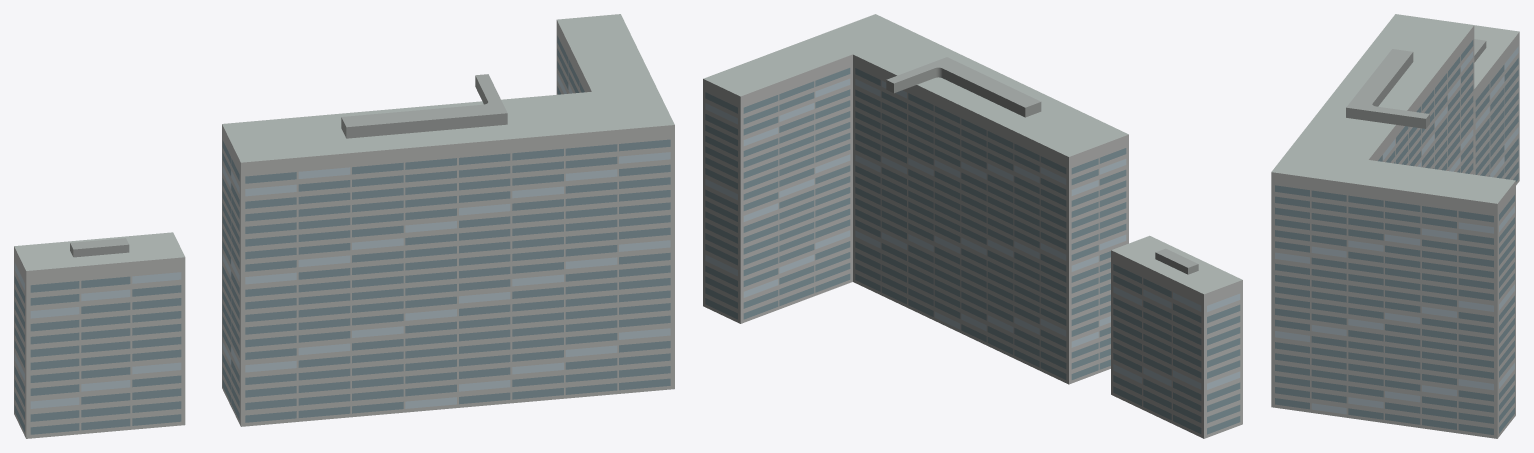
The model's file is apt-a13383003.glb.
3 renders of one model, left to right at view 1: azimuth 30°, elevation 25°; view 2: azimuth 150°, elevation 25°; view 3: azimuth 270°, elevation 25°, orthographic. The views are drawn at different scales.
Visible parts, largest first — view 1: apt-a13383003; view 2: apt-a13383003; view 3: apt-a13383003.
Part boxes in pixels (left/top/right/bottom): apt-a13383003: left=14, top=14, right=674, bottom=438; apt-a13383003: left=703, top=14, right=1242, bottom=438; apt-a13383003: left=1271, top=14, right=1519, bottom=438.
Bounding box in the file's own units: 134 × 58 × 53.27.
